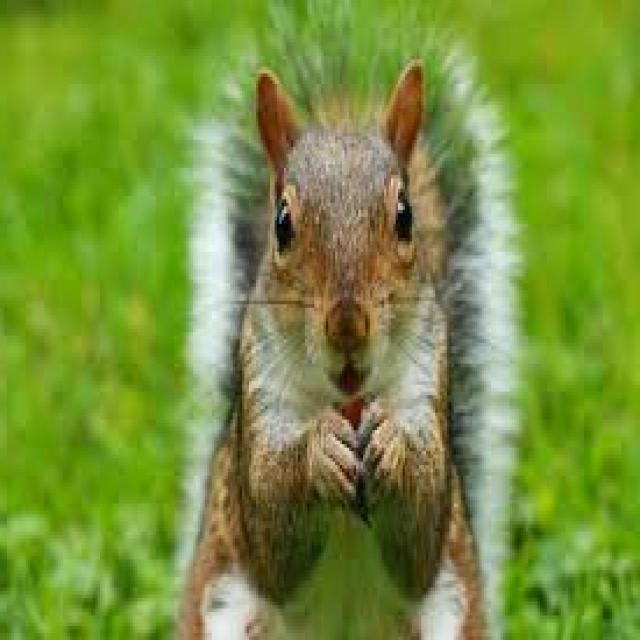squirrel: (179, 0, 519, 637)
